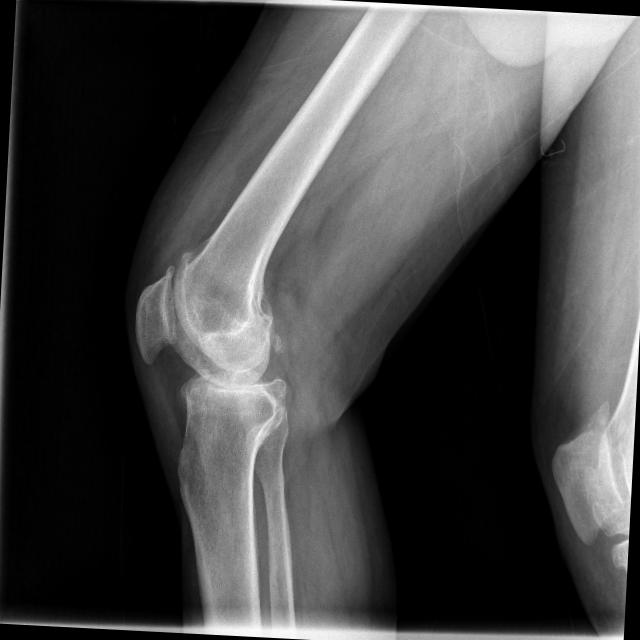Knee: (124, 244, 302, 453)
